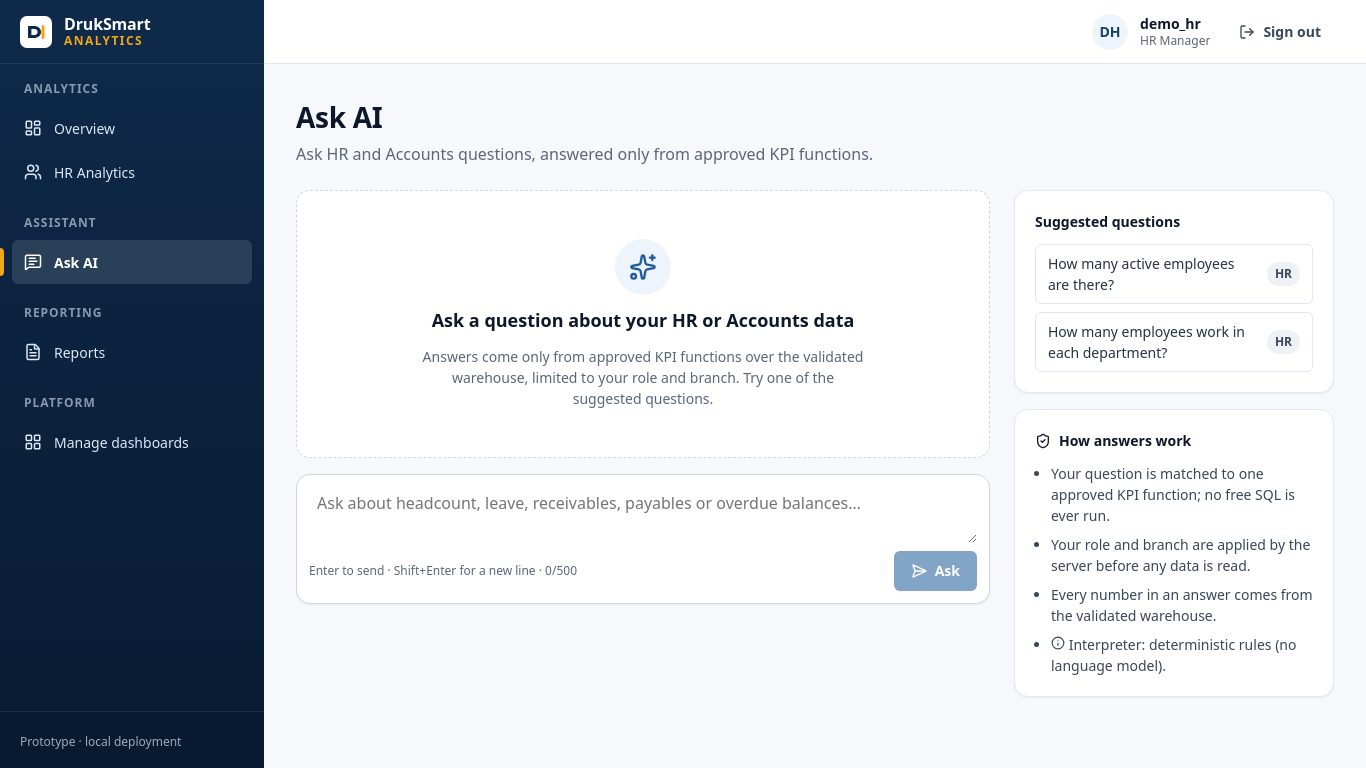
Ask AI › shows a refusal as the assistant's answer, without data
This screenshot has width=1366, height=768.
Type "How much is overdue?" into the text box named "Your question" at (643, 515), box [309,487,977,543]
Then press Enter
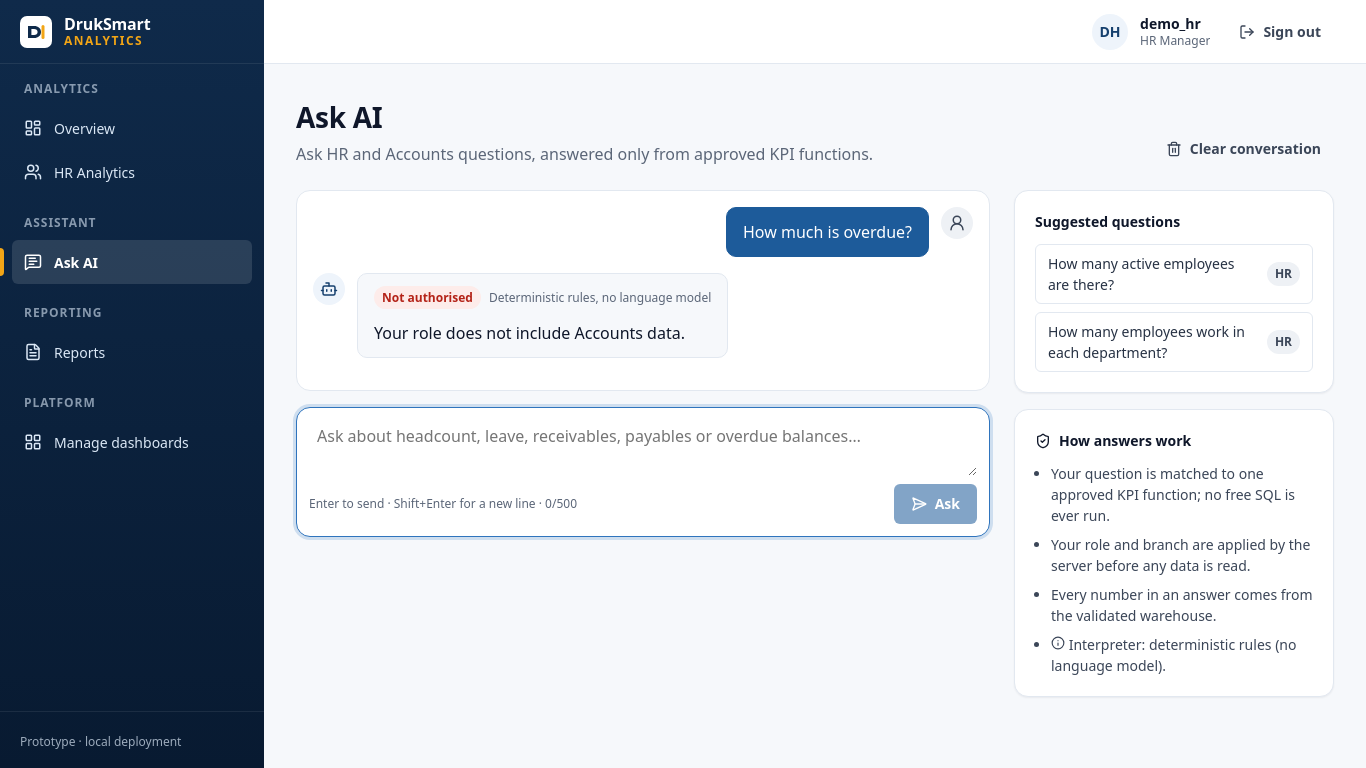
Expected: the text "Not authorised" is shown, [374,286,481,309]
Expected: the text "Your role does not include Accounts data." is shown, [374,321,711,345]
